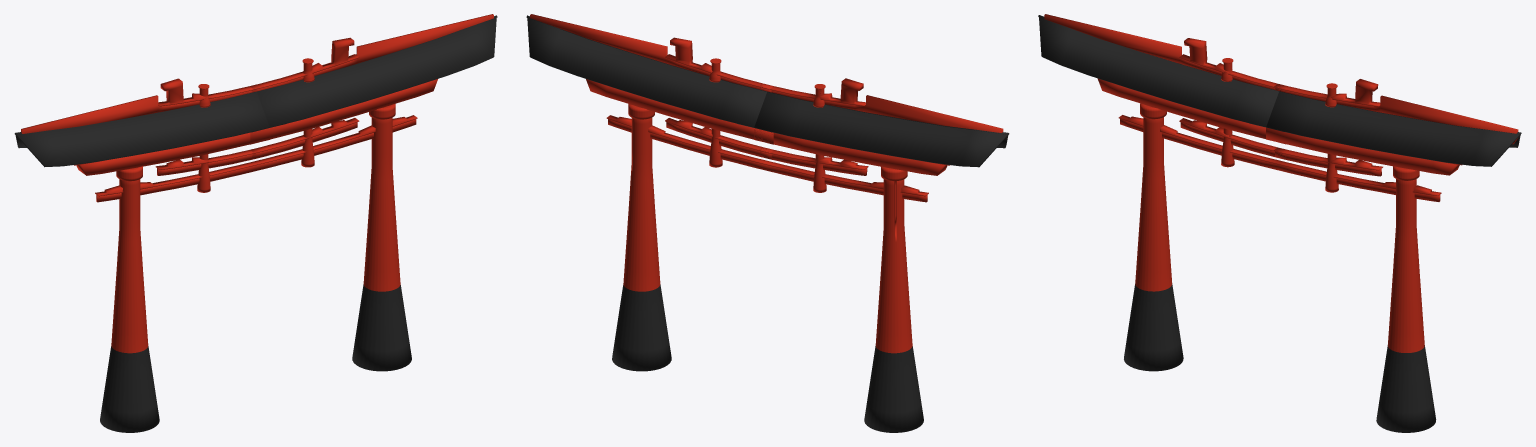
File: Puerta Tori.fbx
The picture shows the model from 3 angles, left to right: view 1: azimuth 30°, elevation 25°; view 2: azimuth 150°, elevation 25°; view 3: azimuth 330°, elevation 25°; orthographic projection.
Visible parts, largest first — view 1: Plane, Cylinder.001, Cube.003, Cube.006, Cube.005, Cube.001, Cylinder.002, Cylinder.003; view 2: Plane, Cylinder.001, Cube.003, Cube.006, Cube.005, Cube.001, Cylinder.002, Cylinder.003; view 3: Plane, Cylinder.001, Cube.003, Cube.006, Cube.005, Cube.001, Cylinder.002, Cylinder.003.
Boxes of the visible parts, x1,y1,x2,y2 form: Plane: (14,15,497,167); Cylinder.001: (100,104,411,432); Cube.003: (21,14,493,133); Cube.006: (76,79,437,175); Cube.005: (95,115,417,202); Cube.001: (155,118,359,175); Cylinder.002: (197,129,314,192); Cylinder.003: (198,58,314,107); Plane: (526,15,1009,167); Cylinder.001: (612,104,923,432); Cube.003: (530,14,1003,132); Cube.006: (586,79,947,175); Cube.005: (606,115,928,202); Cube.001: (665,118,868,175); Cylinder.002: (709,129,826,192); Cylinder.003: (709,58,825,107); Plane: (1038,15,1521,166); Cylinder.001: (1124,103,1436,432); Cube.003: (1044,14,1518,144); Cube.006: (1097,78,1459,175); Cube.005: (1118,115,1441,201); Cube.001: (1179,118,1382,176); Cylinder.002: (1221,128,1338,192); Cylinder.003: (1221,58,1337,107).
Bounding box in the file's own units: 924 × 601 × 99.38.
